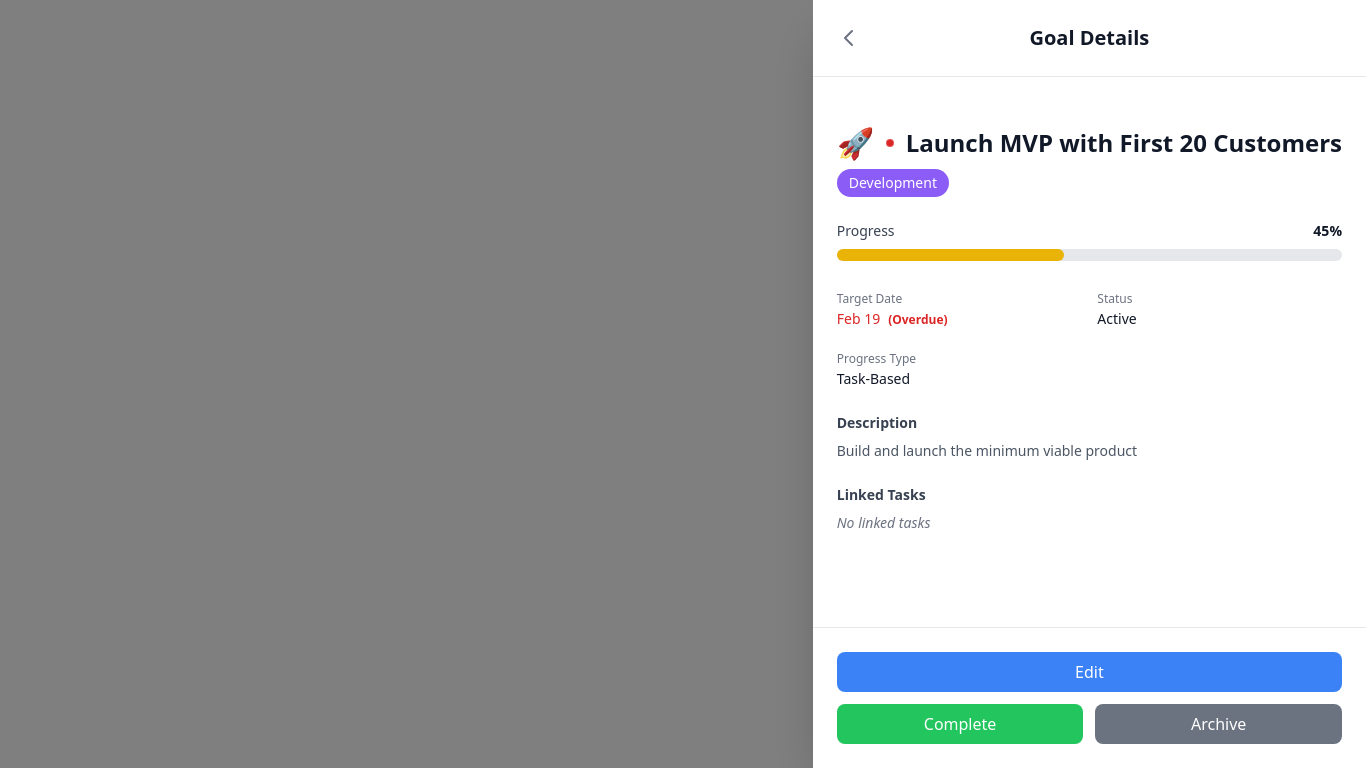
Test: GoalDetailPanel › Confirmation Dialogs › cancels confirmation dialog
Click the button "Complete": coordinates (960, 724) [837, 704, 1083, 744]
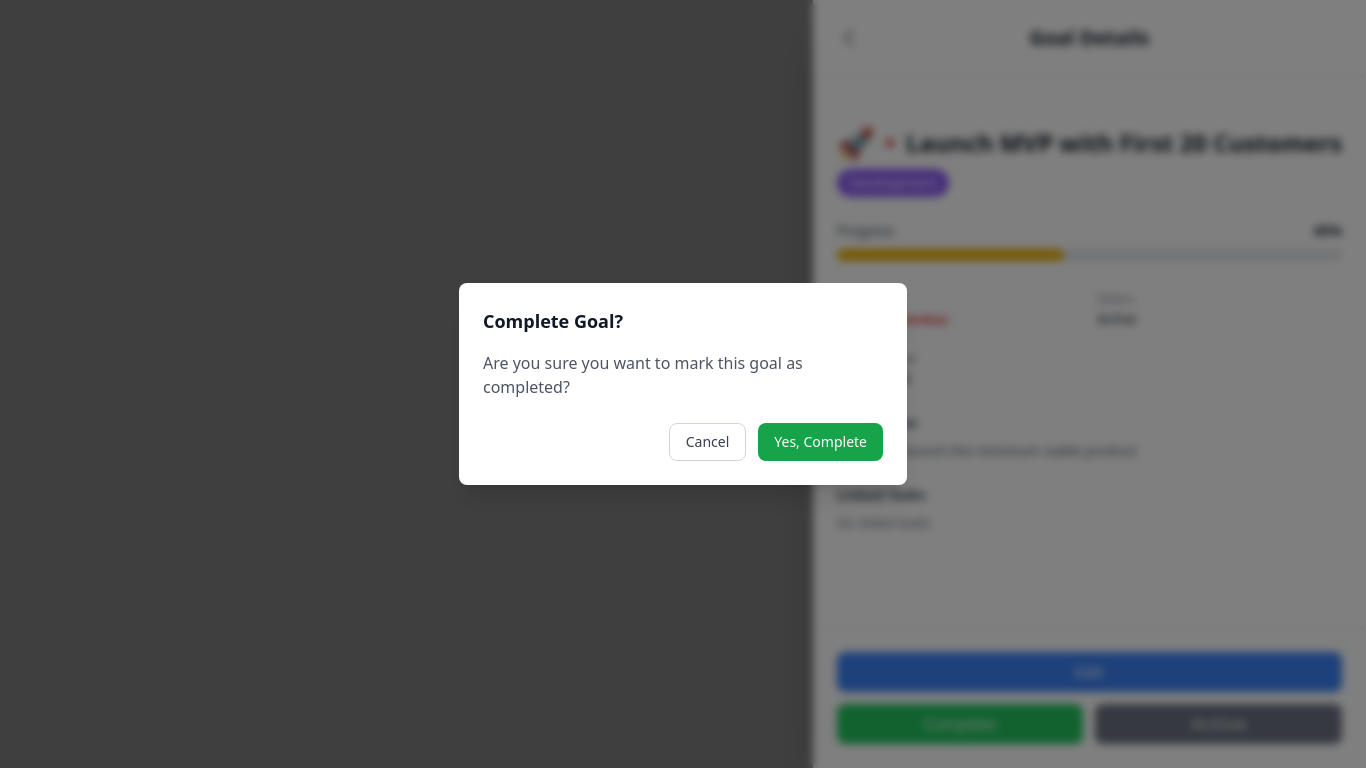
Click the button "Cancel": coordinates (708, 442) [669, 423, 746, 461]
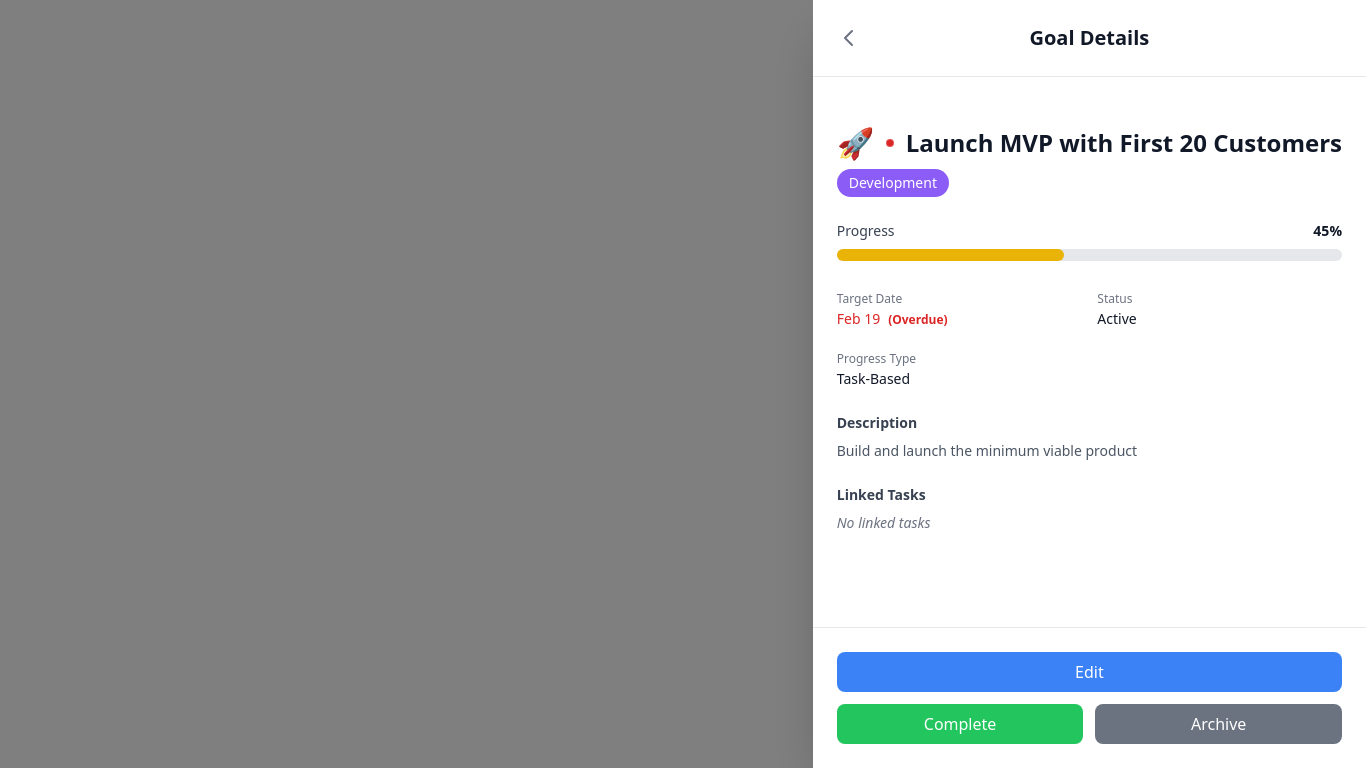
expect the element with test id "confirmation-modal" is gone: met
